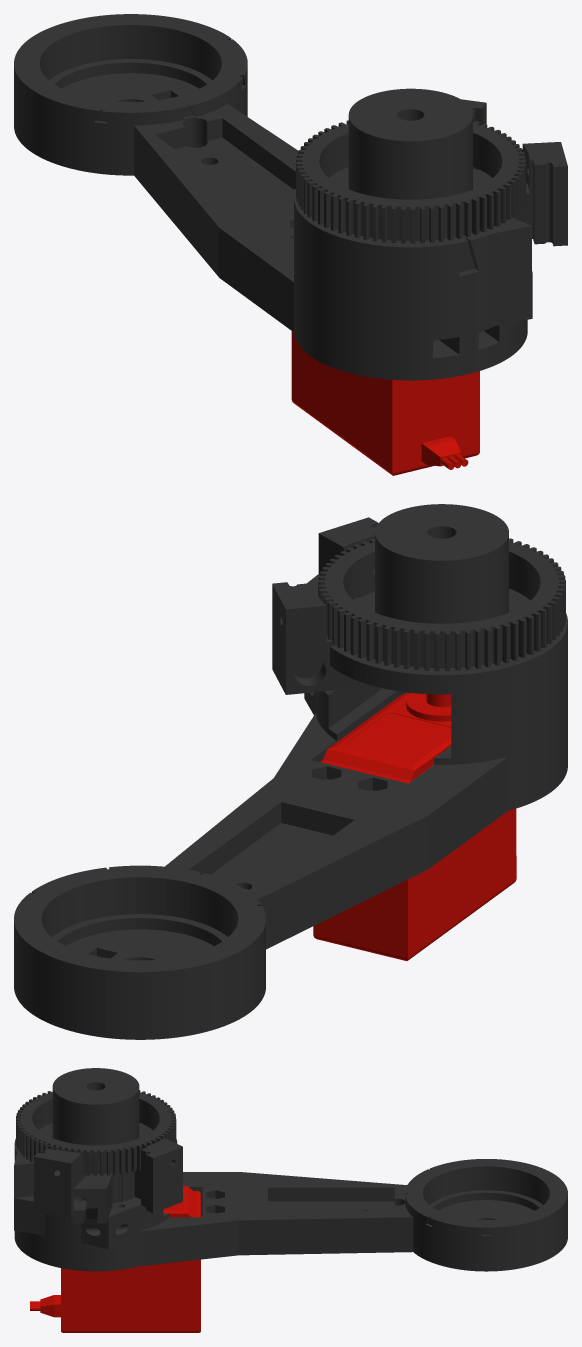
Rendered from femur_r.obj.
The picture shows the model from 3 angles, top to bottom: view 1: azimuth 30°, elevation 25°; view 2: azimuth 150°, elevation 25°; view 3: azimuth 270°, elevation 25°; orthographic projection. The views are drawn at different scales.
Parts seen in each view (by area): view 1: bk3.003_Cylinder.048; view 2: bk3.003_Cylinder.048; view 3: bk3.003_Cylinder.048.
Boxes of the visible parts, x1,y1,x2,y2 form: bk3.003_Cylinder.048: (14,14,567,475); bk3.003_Cylinder.048: (14,504,567,1039); bk3.003_Cylinder.048: (14,1068,567,1332).
Size of the model in its own units: 0.0546 by 0.0747 by 0.1609.
